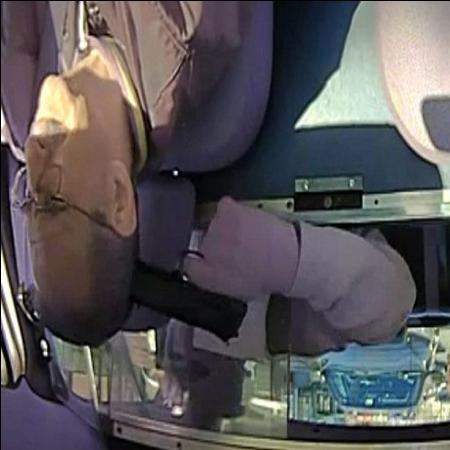Pistol: (130, 199, 255, 349)
